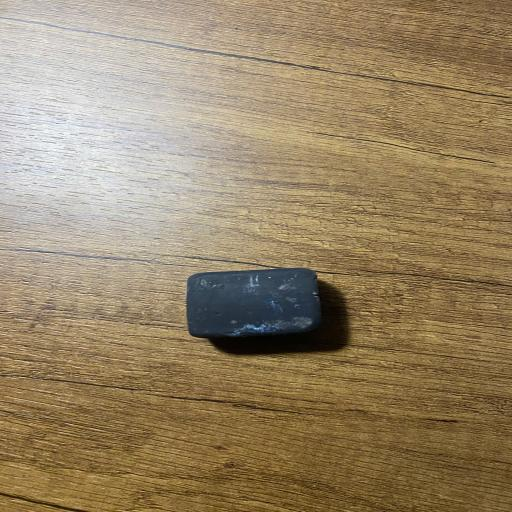T: (185, 271, 321, 336)
